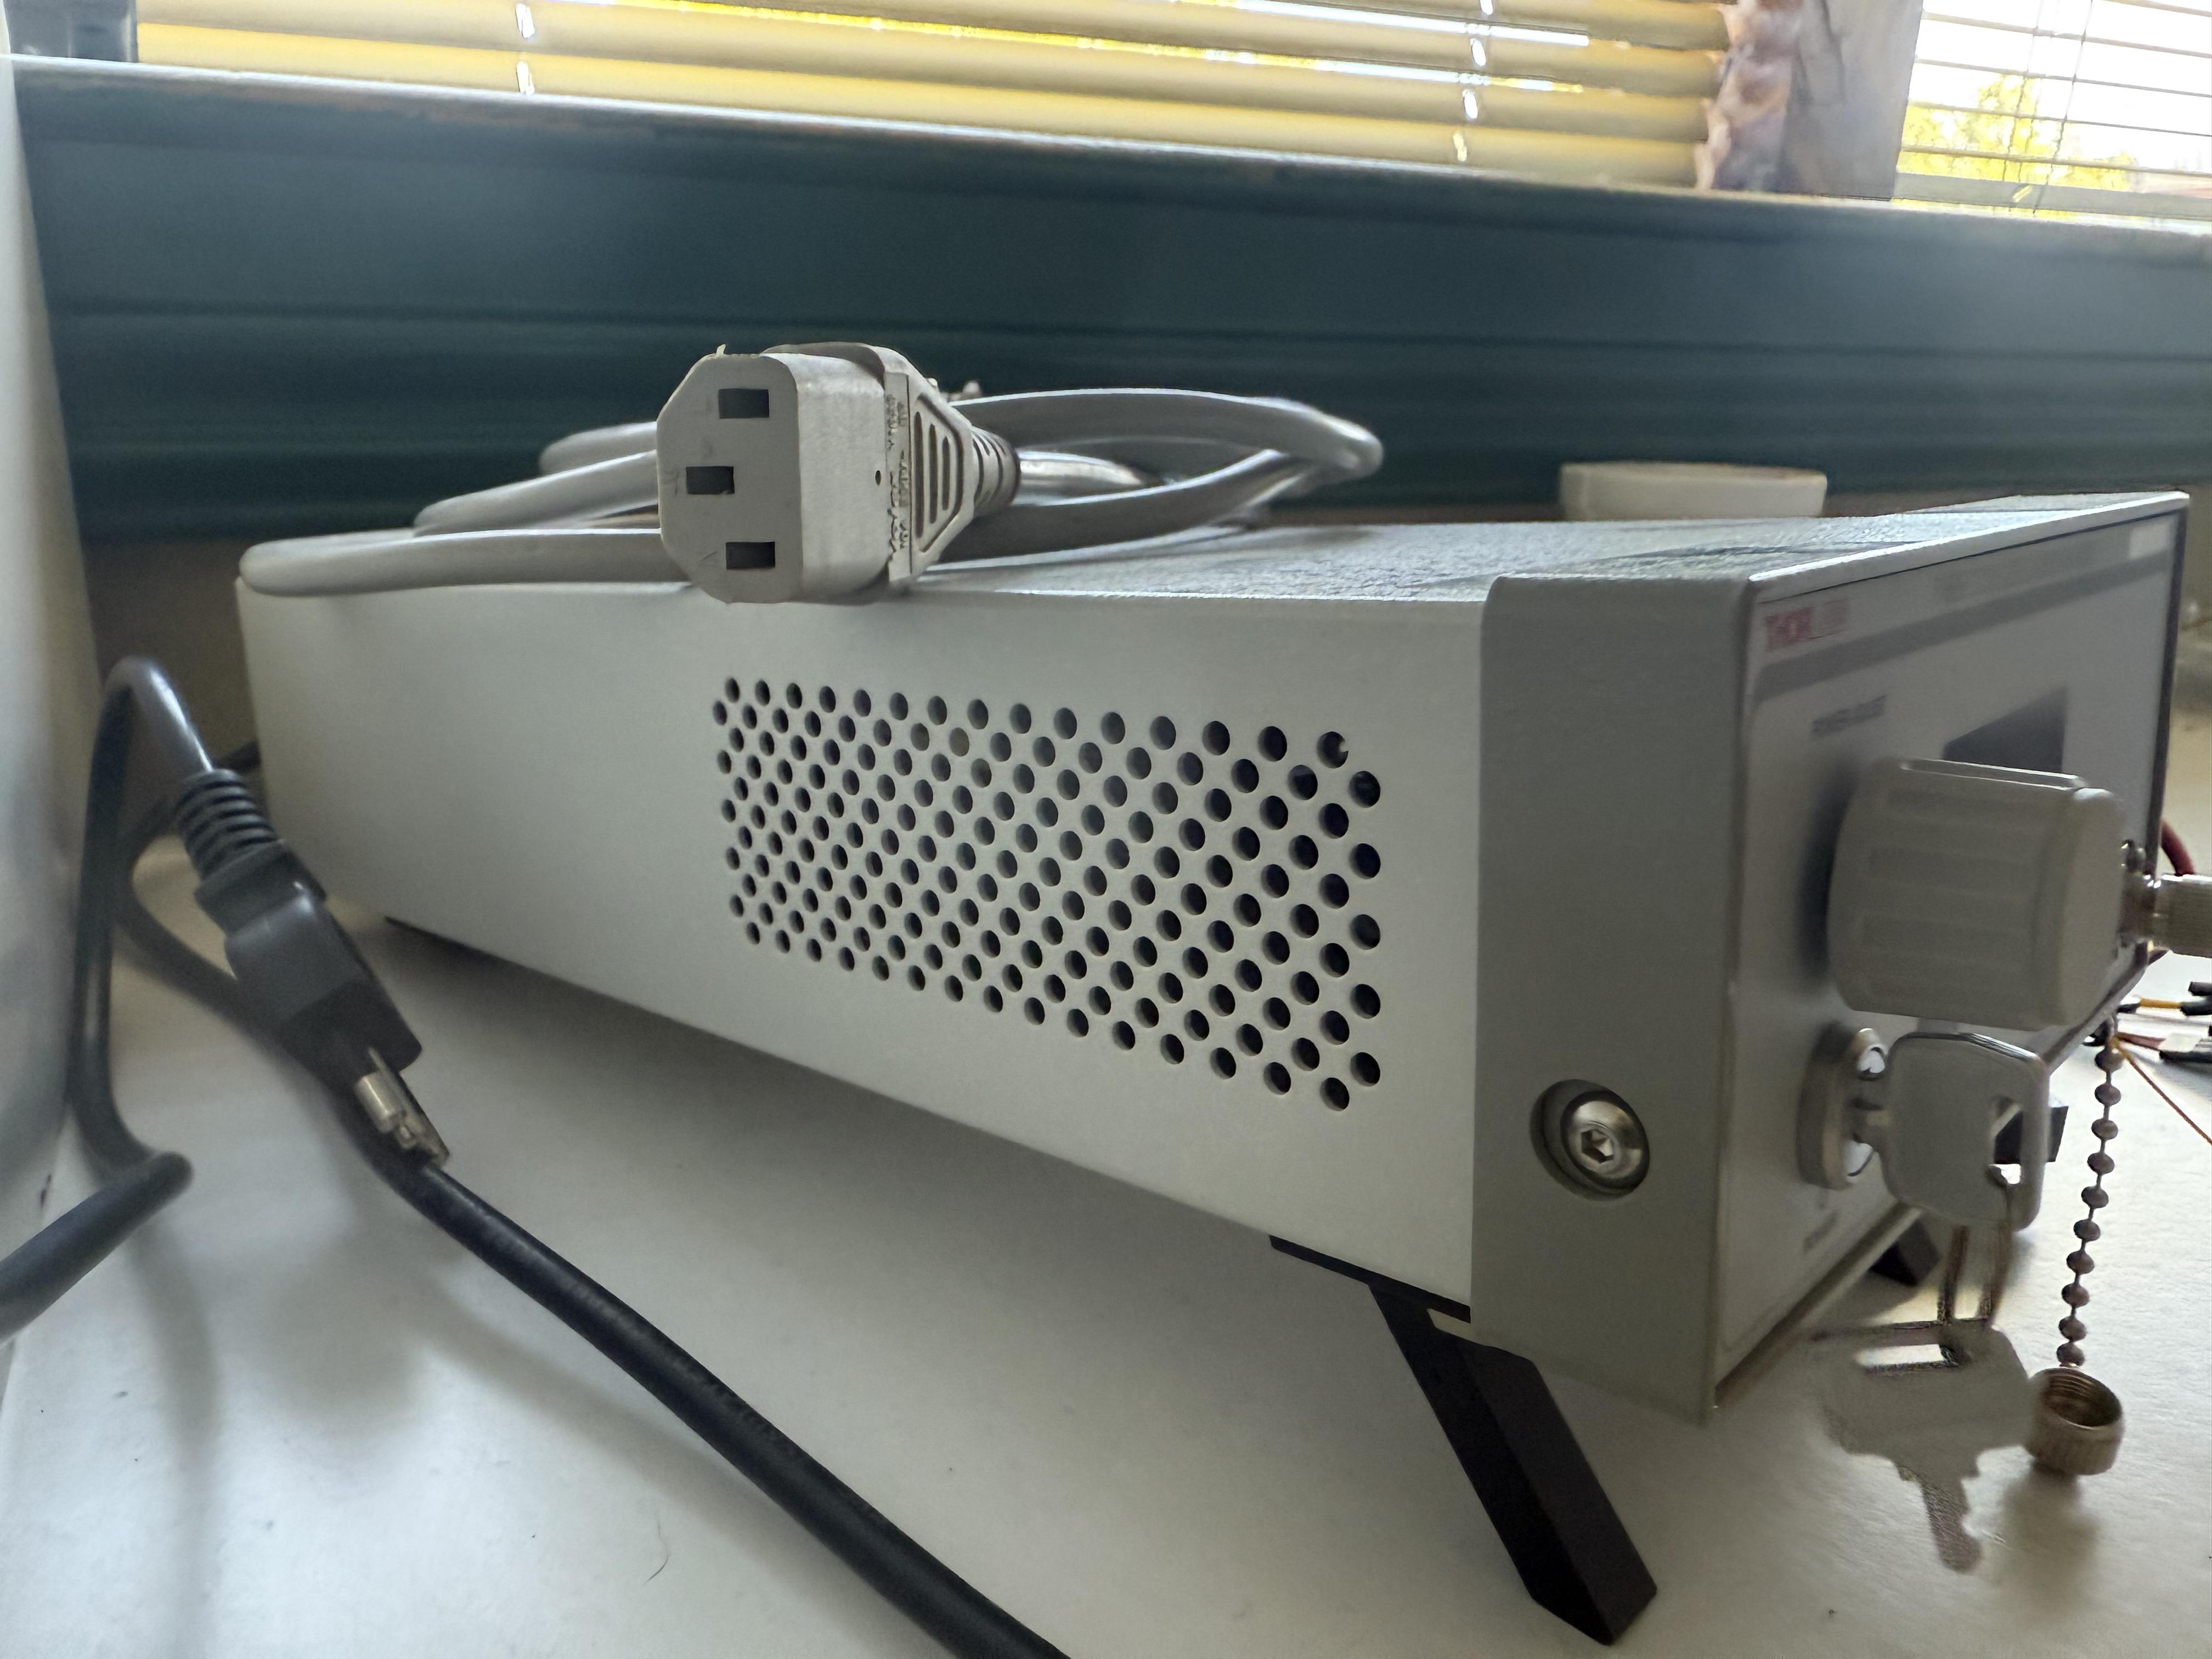laser: (202, 307, 2177, 1476)
